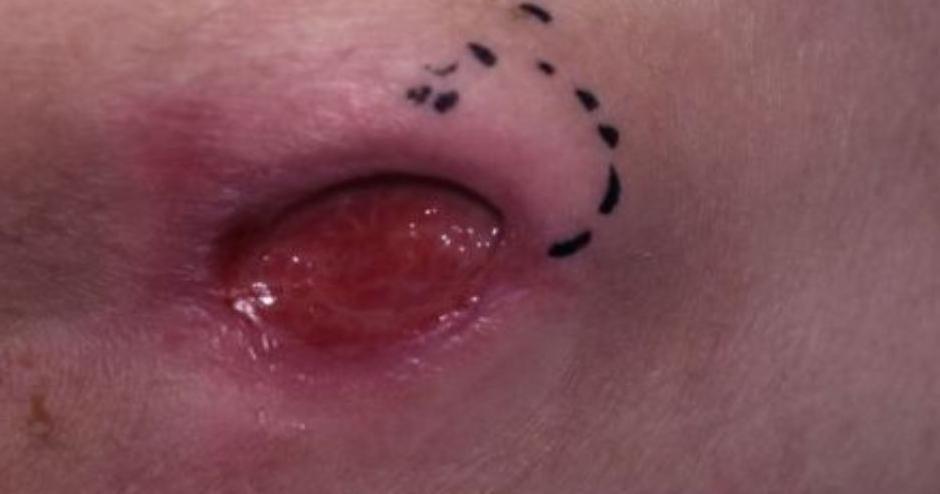Stage3: (140, 101, 645, 409)
